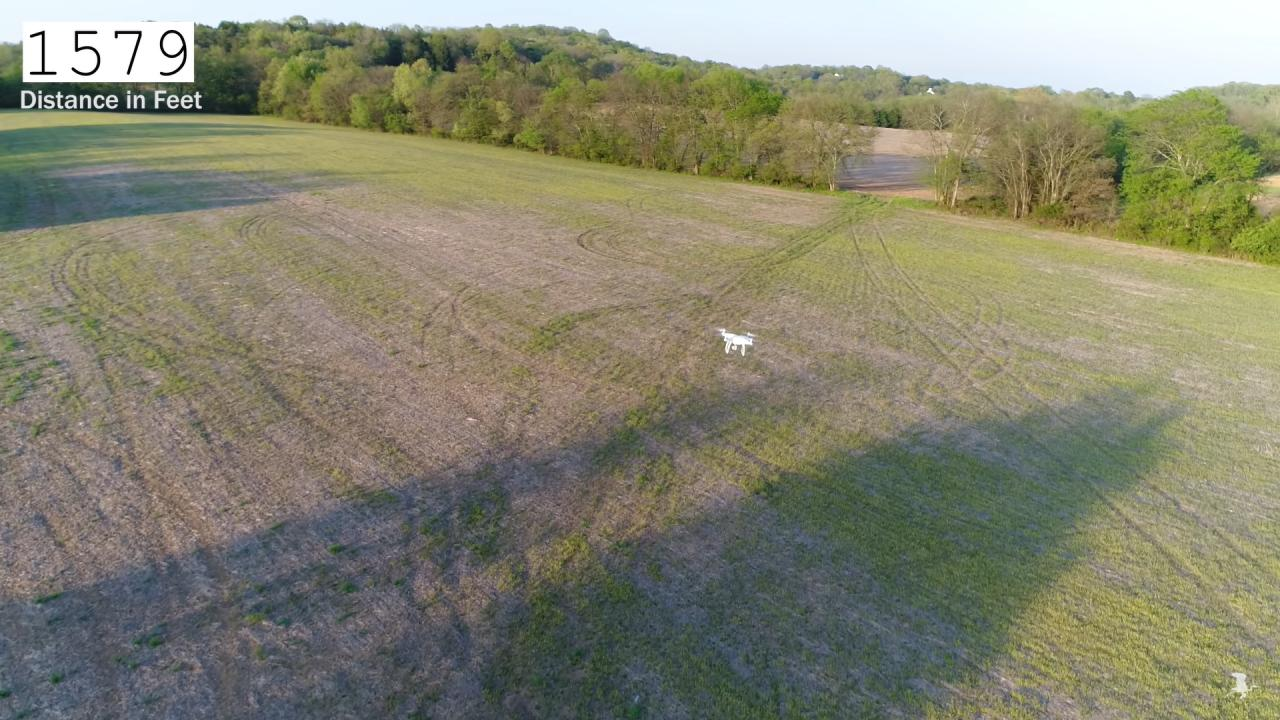Drone: (707, 320, 767, 362)
